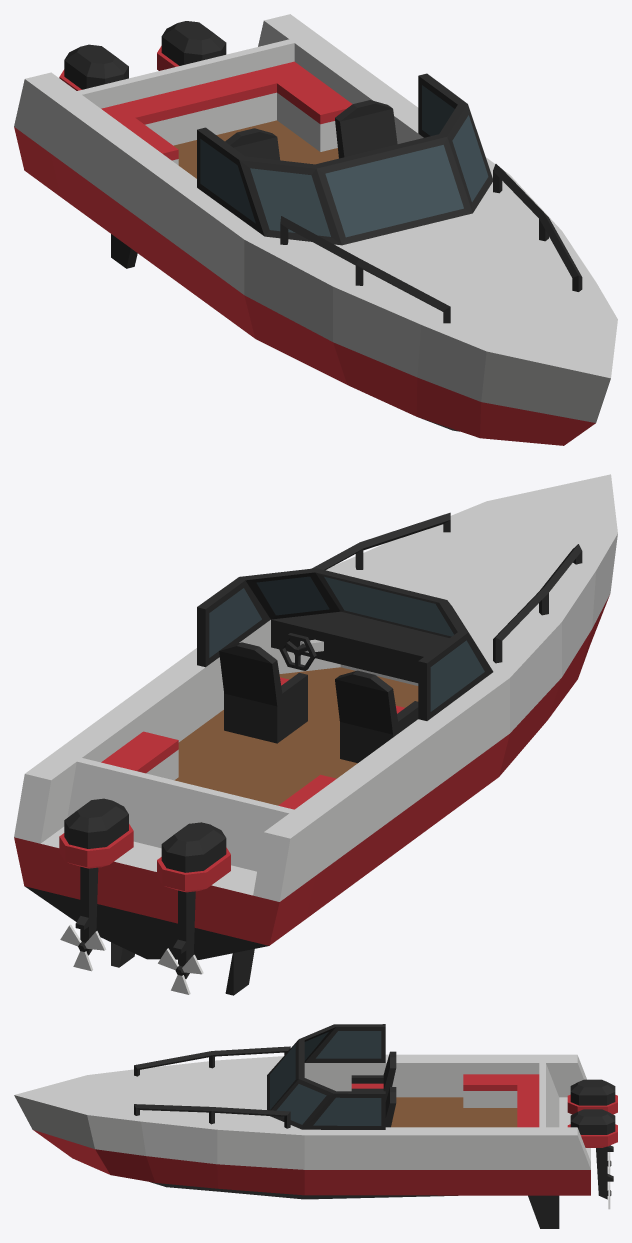
File: vehicles_boat-speed.fbx
3 views of the same model, one above another, from view 1: azimuth 30°, elevation 25°; view 2: azimuth 150°, elevation 25°; view 3: azimuth 270°, elevation 25° (orthographic). The views are drawn at different scales.
Visible parts, largest first — view 1: vehicles_boat_speed; view 2: vehicles_boat_speed; view 3: vehicles_boat_speed.
Boxes of the visible parts, x1,y1,x2,y2 form: vehicles_boat_speed: [14, 14, 617, 445]; vehicles_boat_speed: [14, 474, 617, 995]; vehicles_boat_speed: [14, 1024, 617, 1228].
Size of the model in its own units: 63.13 by 55.24 by 200.
